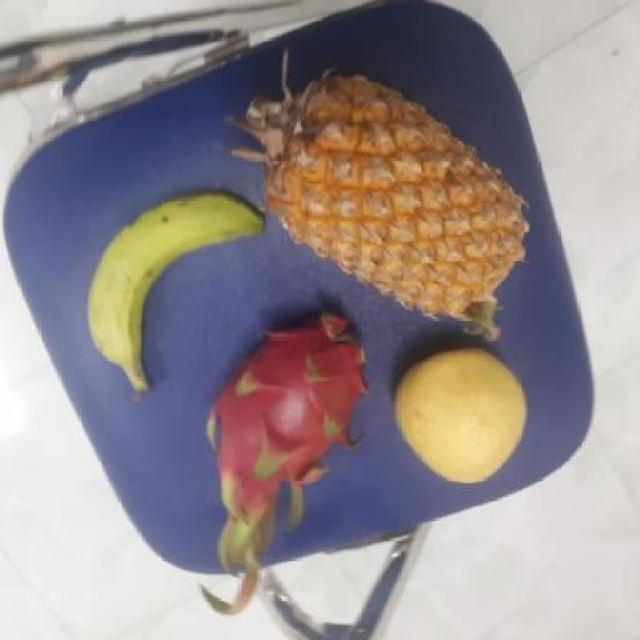banana: (81, 187, 262, 387)
dragon fruit: (213, 310, 370, 512)
pear: (390, 348, 528, 484)
pineapple: (247, 71, 513, 322)
